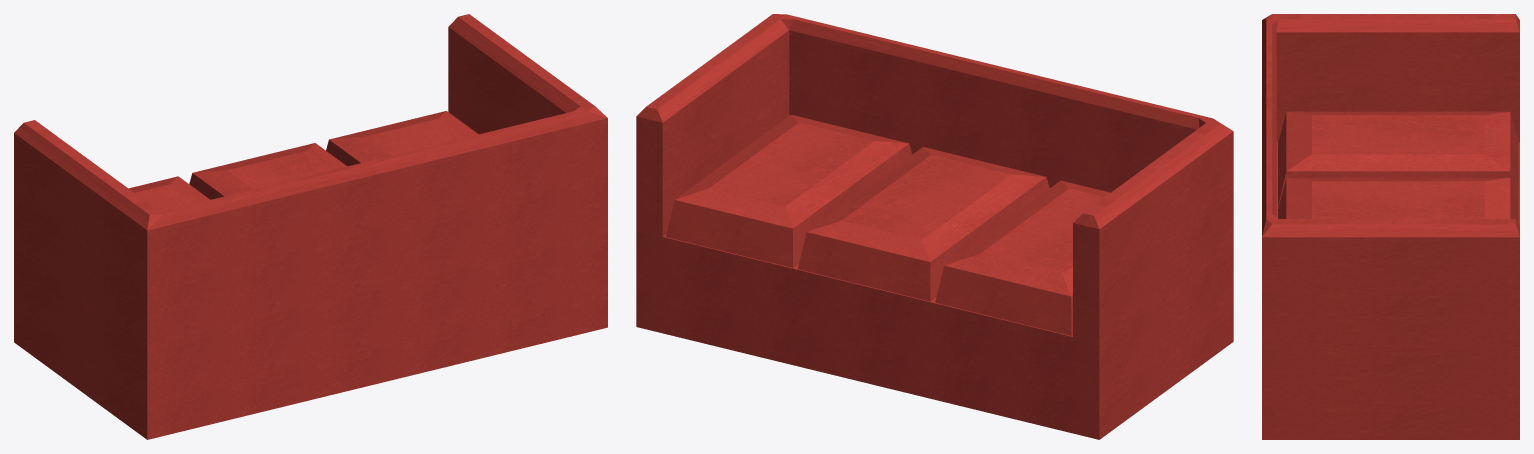
Rendered from sofa4.glb.
3 views of the same model, side by side, from view 1: azimuth 30°, elevation 25°; view 2: azimuth 150°, elevation 25°; view 3: azimuth 270°, elevation 25° (orthographic). The views are drawn at different scales.
Visible parts, largest first — view 1: Cube.011; view 2: Cube.011; view 3: Cube.011.
Part boxes in pixels (<box>): Cube.011: <box>14,14,607,439</box>; Cube.011: <box>636,14,1233,439</box>; Cube.011: <box>1262,14,1519,439</box>.
Bounding box in the file's own units: 1.96 × 0.8931 × 0.984.
Materials: 1 (1 with a texture image).
